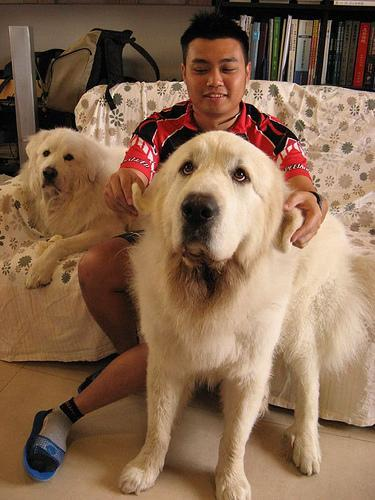Great_Pyrenees: (116, 130, 373, 496), (0, 127, 120, 288)
